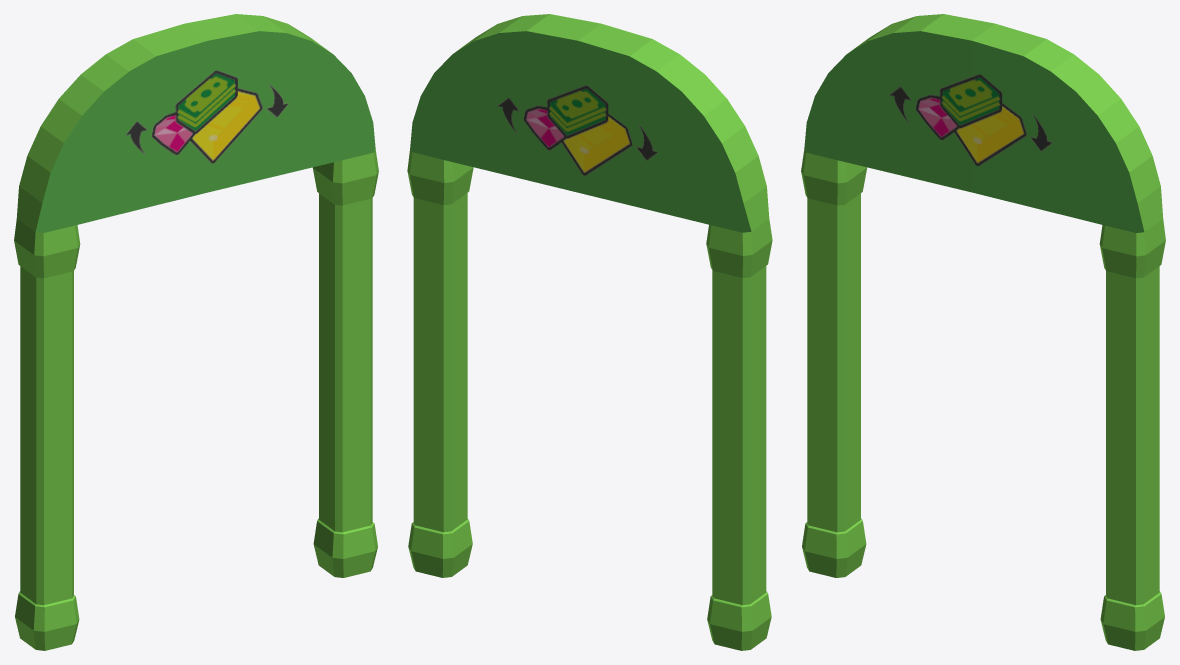
Rendered from money_gate_.fbx.
3 views of the same model, side by side, from view 1: azimuth 30°, elevation 25°; view 2: azimuth 150°, elevation 25°; view 3: azimuth 330°, elevation 25° (orthographic).
Visible parts, largest first — view 1: Gate; view 2: Gate; view 3: Gate.
Boxes of the visible parts, box(x1,y1,x2,y2) form: Gate: box(14, 14, 378, 650); Gate: box(407, 14, 772, 650); Gate: box(801, 14, 1165, 650).
Size of the model in its own units: 286 by 452 by 38.87.
Materials: 2 (1 with a texture image).
